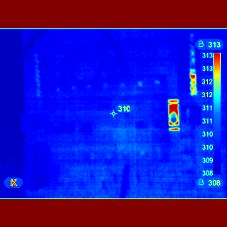Less: (170, 112, 177, 122)
